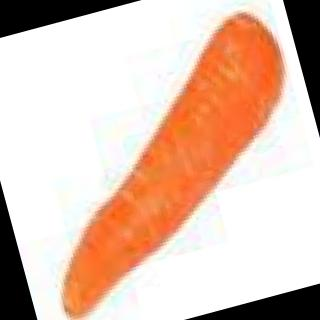Wortel: (1, 2, 320, 320)
